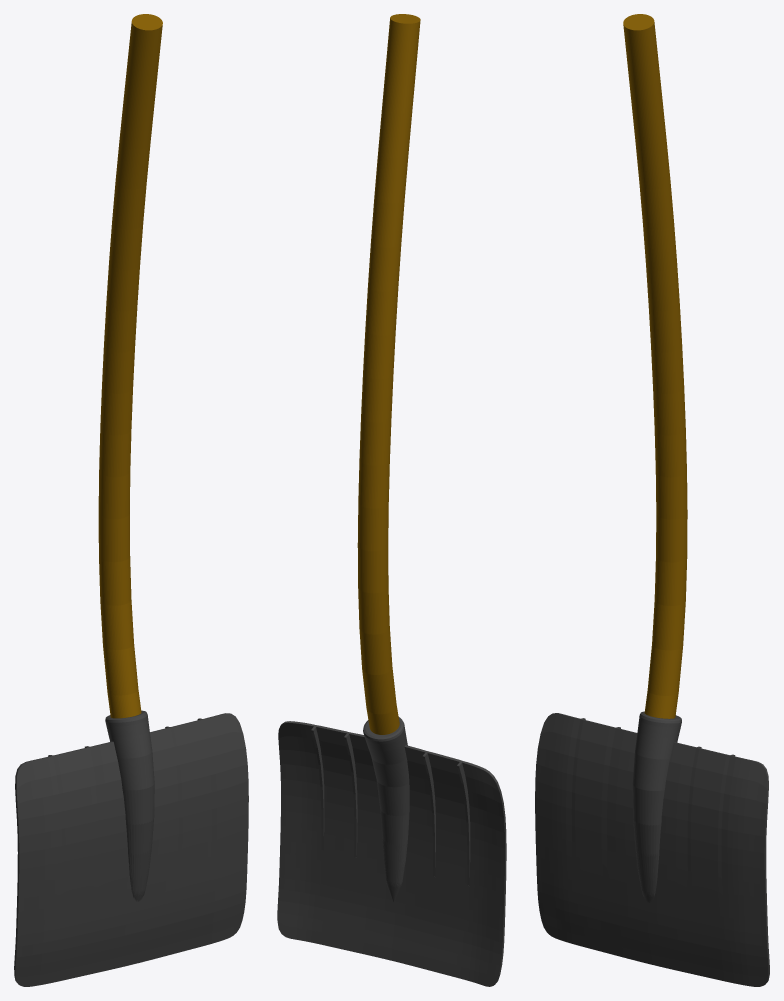
File: pelle.fbx
The picture shows the model from 3 angles, left to right: view 1: azimuth 30°, elevation 25°; view 2: azimuth 150°, elevation 25°; view 3: azimuth 330°, elevation 25°; orthographic projection. The views are drawn at different scales.
Parts seen in each view (by area): view 1: Tete; view 2: Tete; view 3: Tete.
Part boxes in pixels (x1,y1,x2,y2): Tete: [14, 14, 248, 986]; Tete: [277, 14, 506, 986]; Tete: [535, 14, 769, 986].
Bounding box in the file's own units: 64.04 × 255 × 23.49.
